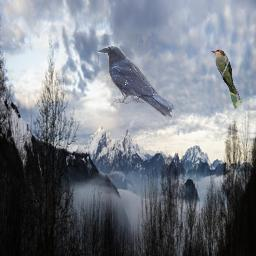Crow: (97, 45, 175, 119)
Cuckoo: (210, 49, 242, 109)
